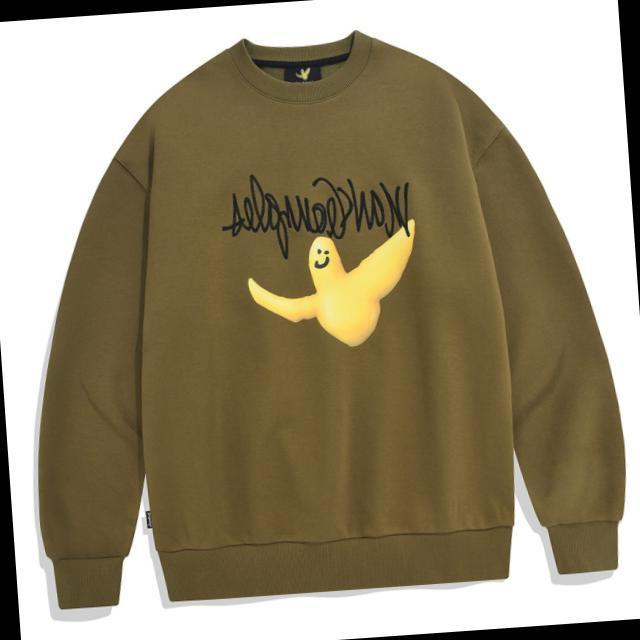sweater: (35, 29, 629, 616)
